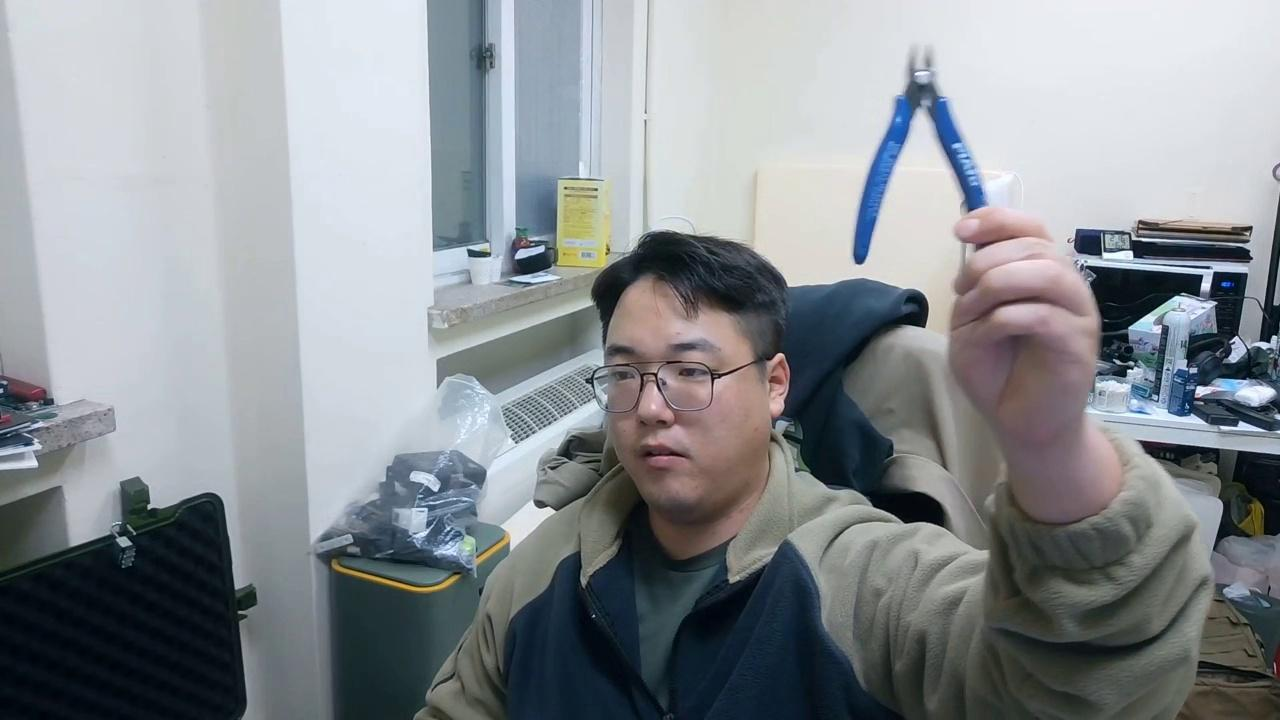blue_pliers: (851, 42, 993, 266)
